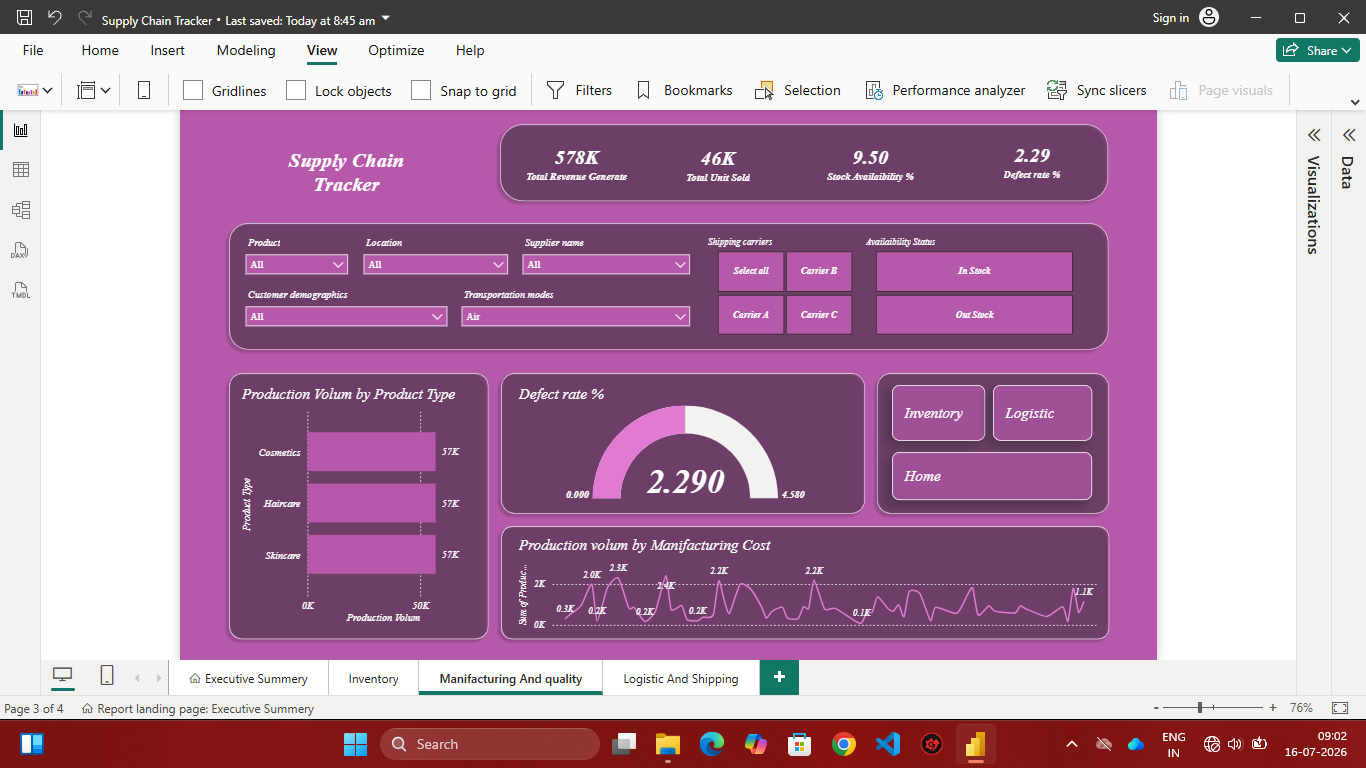

This screenshot's page, from the dashboard's own definition file:
{"tool":"powerbi","page":{"name":"Manifacturing And quality","canvas":[1280,720],"ordinal":2},"visuals":[{"type":"textbox","box":[100.5,45.4,234,82.6],"z":0},{"type":"shape","box":[411.5,11,812,117],"z":1000},{"type":"cardVisual","fields":{"Data":["Manifacturing.Defect rate %"]},"box":[1004.7,28.9,220.2,79.8],"z":2000},{"type":"cardVisual","fields":{"Data":["Product/Sales.Stock Availability"]},"box":[783.1,13.8,242.2,114.2],"z":3000},{"type":"cardVisual","fields":{"Data":["Product/Sales.Total Unit Sold"]},"box":[618,31.7,173.4,82.6],"z":4000},{"type":"cardVisual","fields":{"Data":["Product/Sales.Total Revenue Generate"]},"box":[419.8,31.7,198.2,79.8],"z":5000},{"type":"shape","box":[56.4,140.4,1167.1,181.7],"z":6000},{"type":"slicer","fields":{"Values":["Product/Sales.Product type"]},"box":[75.7,161,154.2,67.4],"z":7000},{"type":"slicer","fields":{"Values":["Ordering.Location"]},"box":[229.8,161,209.2,78.5],"z":8000},{"type":"slicer","fields":{"Values":["Ordering.Supplier name"]},"box":[439.1,161,239.5,67.4],"z":9000},{"type":"slicer","fields":{"Values":["Product/Sales.Customer demographics"]},"box":[75.7,228.5,283.5,72.9],"z":10000},{"type":"slicer","fields":{"Values":["Shipping/Logistic.Transportation modes"]},"box":[359.2,228.5,319.3,72.9],"z":11000},{"type":"slicer","fields":{"Values":["Shipping/Logistic.Shipping carriers"]},"box":[678.5,161,225.7,140.4],"z":12000},{"type":"slicer","fields":{"Values":["Product/Sales.Availaibility Status"]},"box":[885,161,308.3,140.4],"z":13000},{"type":"shape","box":[56.2,337,355.7,364.3],"z":14000},{"type":"barChart","title":"Production Volum by Product Type","fields":{"Category":["Product/Sales.Product type"],"Y":["Sum(Manifacturing.Production volumes)"]},"box":[76.3,360,306.7,316.8],"z":15000},{"type":"shape","box":[411.8,337,492.5,200.2],"z":16000},{"type":"shape","box":[411.8,537.1,812.2,164.2],"z":17000},{"type":"shape","box":[904.3,337,319.7,200.2],"z":18000},{"type":"actionButton","box":[931.7,360,122.4,73.4],"z":19000},{"type":"actionButton","box":[1064.2,360,129.6,73.4],"z":20000},{"type":"actionButton","box":[931.7,447.8,262.1,63.4],"z":21000},{"type":"lineChart","title":"Production volum by Manifacturing Cost","fields":{"Category":["Manifacturing.Manufacturing costs"],"Y":["Sum(Manifacturing.Production volumes)"]},"box":[439.1,557.4,766.6,129.4],"z":22000},{"type":"gauge","fields":{"Y":["Manifacturing.Defect rate %"]},"box":[439.1,360.6,445.9,158.3],"z":23000}]}

Visuals, with their boxes on the page's 1280x720 design canvas (x1, y1, x2, y2). These are canvas units, not pixel positions in the 1366x768 screenshot, which may show the page scaled, cropped or inside an application window:
textbox: 100 45 334 128
shape: 412 11 1224 128
cardVisual - Manifacturing.Defect rate %: 1005 29 1225 109
cardVisual - Product/Sales.Stock Availability: 783 14 1025 128
cardVisual - Product/Sales.Total Unit Sold: 618 32 791 114
cardVisual - Product/Sales.Total Revenue Generate: 420 32 618 112
shape: 56 140 1224 322
slicer - Product/Sales.Product type: 76 161 230 228
slicer - Ordering.Location: 230 161 439 240
slicer - Ordering.Supplier name: 439 161 679 228
slicer - Product/Sales.Customer demographics: 76 228 359 301
slicer - Shipping/Logistic.Transportation modes: 359 228 678 301
slicer - Shipping/Logistic.Shipping carriers: 678 161 904 301
slicer - Product/Sales.Availaibility Status: 885 161 1193 301
shape: 56 337 412 701
"Production Volum by Product Type" barChart: 76 360 383 677
shape: 412 337 904 537
shape: 412 537 1224 701
shape: 904 337 1224 537
actionButton: 932 360 1054 433
actionButton: 1064 360 1194 433
actionButton: 932 448 1194 511
"Production volum by Manifacturing Cost" lineChart: 439 557 1206 687
gauge - Manifacturing.Defect rate %: 439 361 885 519
